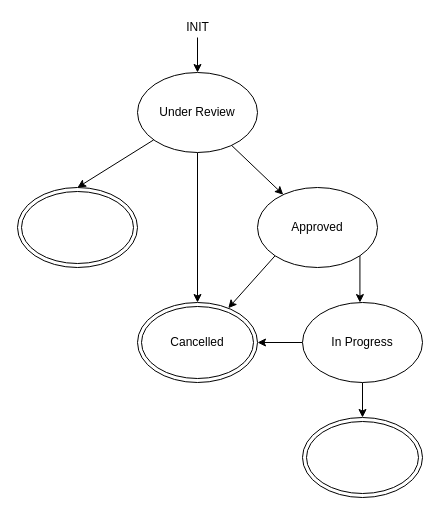
The diagram is 440 pixels wide and 515 high, and some of its shapes have lost their labels. Here are the shapes that lost their labels. From the top down, the centre of each, then its label:
the point at 77,227: Rejected
the point at 362,457: Completed
